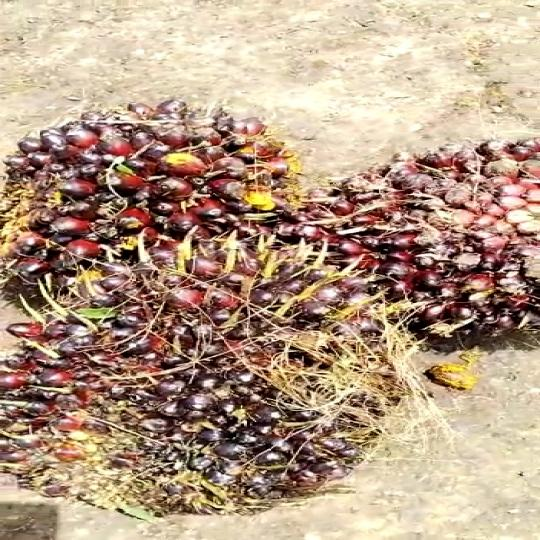kurang masak: (0, 230, 405, 508), (0, 93, 281, 278), (289, 134, 540, 318)
